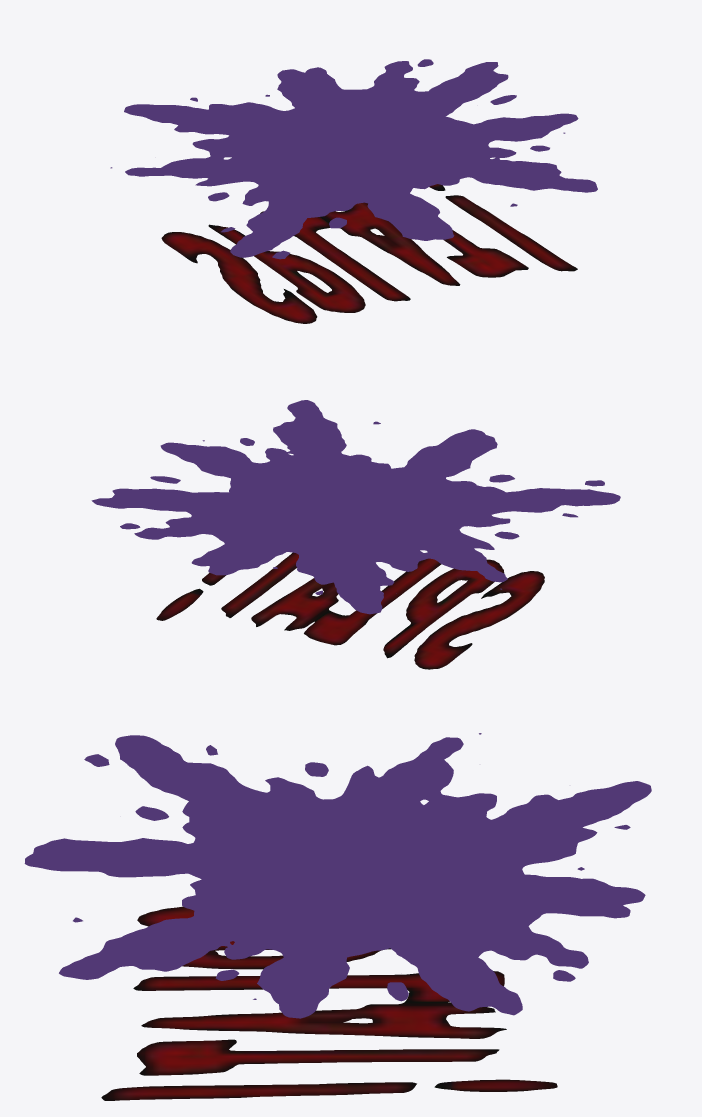
File: splat.glb
The picture shows the model from 3 angles, top to bottom: view 1: azimuth 30°, elevation 25°; view 2: azimuth 150°, elevation 25°; view 3: azimuth 270°, elevation 25°; orthographic projection. The views are drawn at different scales.
Parts seen in each view (by area): view 1: splat, joint_splat; view 2: splat, joint_splat; view 3: splat, joint_splat.
Part boxes in pixels (x1,y1,x2,y2): splat: [110, 59, 597, 259]; joint_splat: [161, 184, 577, 323]; splat: [91, 400, 620, 614]; joint_splat: [156, 552, 544, 669]; splat: [24, 733, 651, 1018]; joint_splat: [101, 906, 557, 1100].
Size of the model in its own units: 4.02 by 0.7717 by 3.66.
2 materials, 2 textured.
